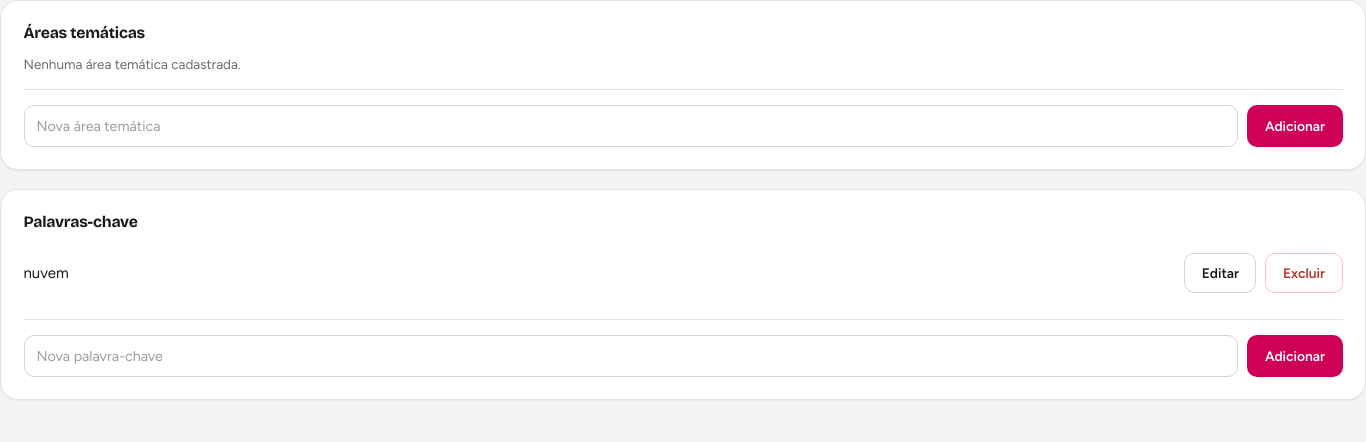
Test: coordenação: áreas e palavras-chave › erro ao excluir aparece no card
This screenshot has width=1366, height=442.
Click the button "Excluir" at (1304, 273), box [1266, 253, 1342, 293]
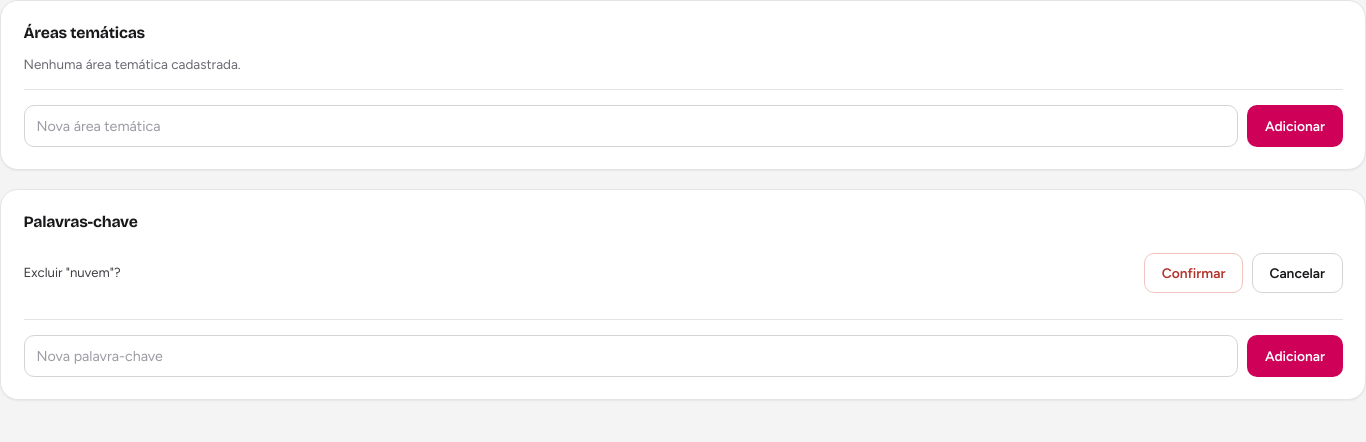
Click the button "Confirmar" at (1194, 273), box [1144, 253, 1243, 293]
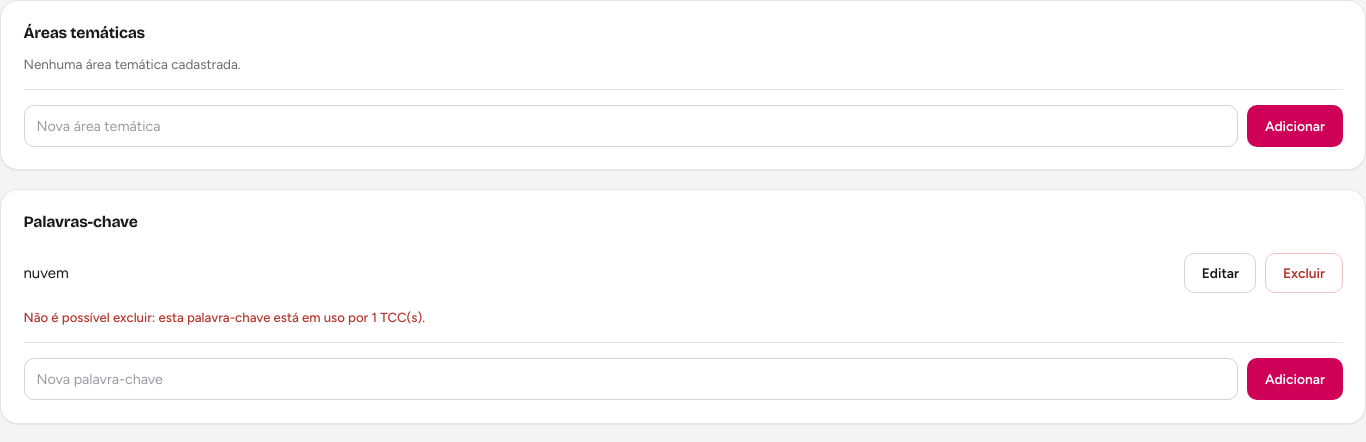
Result: the text "Não é possível excluir: esta palavra-chave está em uso por 1 TCC(s)." is shown at [24, 308, 425, 324]
